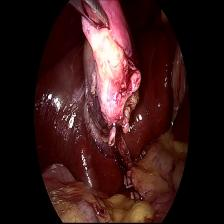Grasper: (68, 0, 111, 34)
